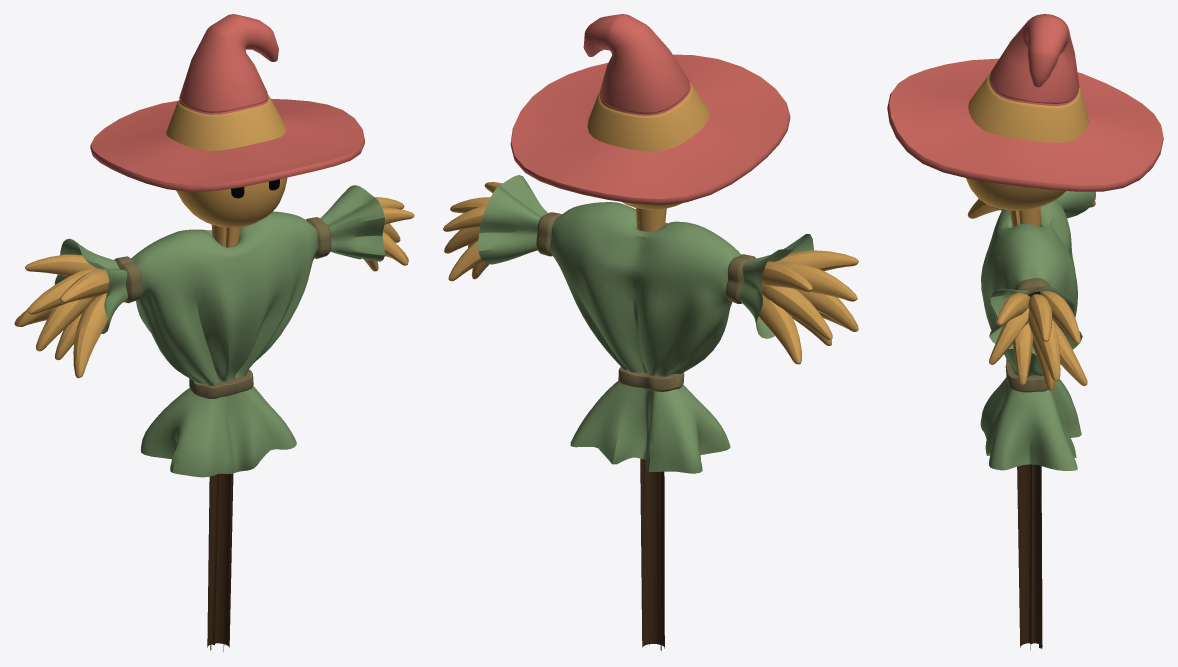
File: Autumn_Obstacle 2.fbx
The picture shows the model from 3 angles, left to right: view 1: azimuth 30°, elevation 25°; view 2: azimuth 150°, elevation 25°; view 3: azimuth 270°, elevation 25°; orthographic projection. The views are drawn at different scales.
Visible parts, largest first — view 1: scarecrow; view 2: scarecrow; view 3: scarecrow.
Part boxes in pixels (box(x1,y1,x2,y2)): scarecrow: box(14, 14, 414, 651); scarecrow: box(443, 14, 858, 650); scarecrow: box(887, 14, 1163, 650).
Bounding box in the file's own units: 548 × 837 × 326.
